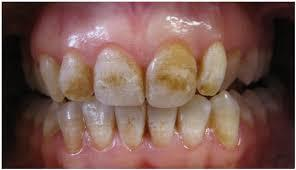LLCI_mdecay: (147, 108, 178, 148)
LLC_healthy: (211, 92, 240, 149)
LLLI_healthy: (178, 97, 212, 147)
LRCI_mdecay: (114, 107, 147, 148)
LRC_healthy: (58, 103, 84, 156)
LRLI_mdecay: (84, 100, 114, 151)
ULCI_mdecay: (145, 39, 197, 108)
ULLI_mdecay: (198, 40, 224, 97)
URCI_mdecay: (94, 41, 145, 106)
URLI_mdecay: (59, 48, 94, 103)
